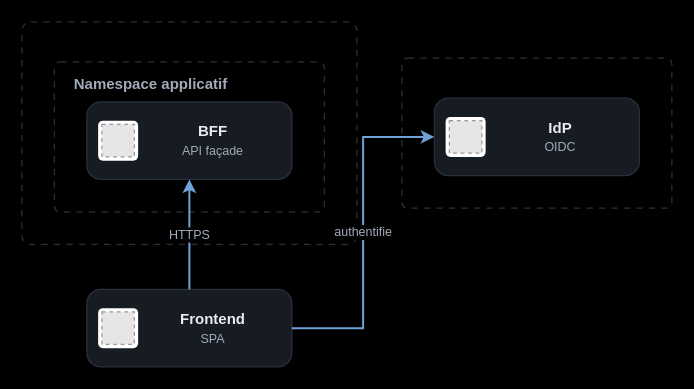
Some shapes in this 694 by 389 pixel diagram are drawn without their labels. Grey dashed boxes stand in for pictures. Here are the shapes that lost their labels. From the top down, the box of each, then its label:
(21, 21, 357, 244): Cloud (région)
(401, 57, 672, 208): Partenaires
